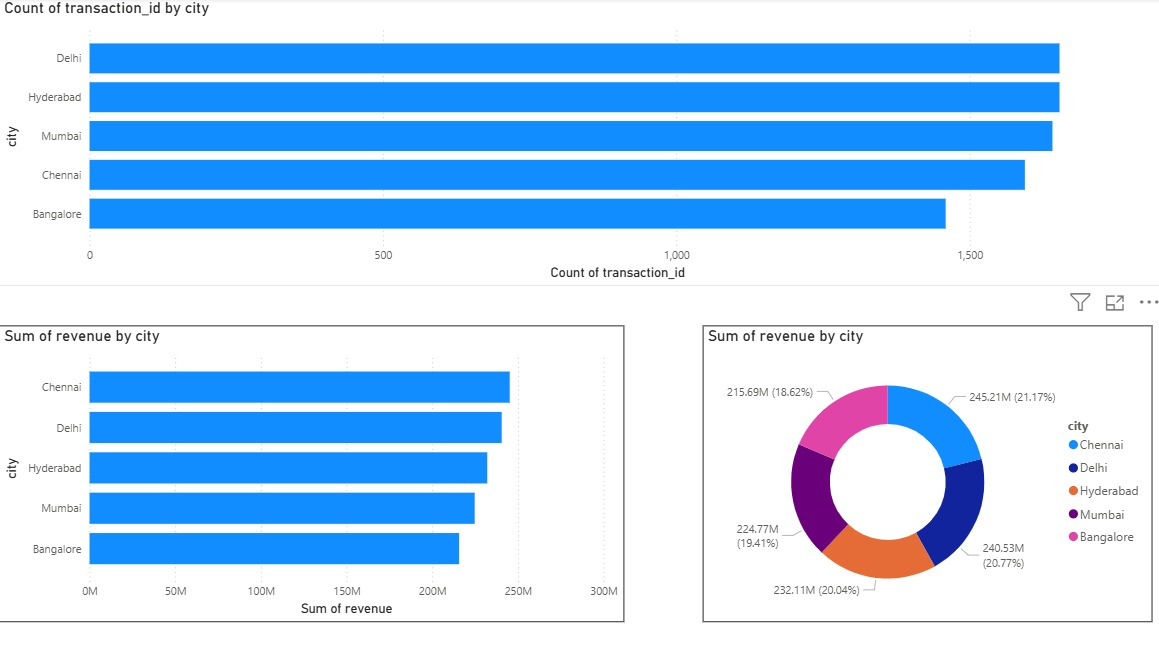

Layout of this report page (visuals, bound fields, positions):
{"tool":"powerbi","page":{"name":"Regional Insights","canvas":[1280,720],"ordinal":2},"visuals":[{"type":"clusteredBarChart","fields":{"Category":["cleaned_retail_data_v2.city"],"Y":["Sum(cleaned_retail_data_v2.revenue)"]},"box":[0,359.5,686.1,325.2],"z":0},{"type":"clusteredBarChart","fields":{"Category":["cleaned_retail_data_v2.city"],"Y":["Count(cleaned_retail_data_v2.transaction_id)"]},"box":[0,0,1280.3,315.6],"z":1000},{"type":"donutChart","fields":{"Category":["cleaned_retail_data_v2.city"],"Y":["Sum(cleaned_retail_data_v2.revenue)"]},"box":[772.6,359.5,494,325.2],"z":2000}]}

Visuals, with their boxes in screenshot pixels (x1, y1, x2, y2), scaled from the page's 1280x720 canvas onto the 1159x648 screenshot:
clusteredBarChart - cleaned_retail_data_v2.city x Sum(cleaned_retail_data_v2.revenue): Rect(0, 324, 621, 616)
clusteredBarChart - cleaned_retail_data_v2.city x Count(cleaned_retail_data_v2.transaction_id): Rect(0, 0, 1158, 284)
donutChart - cleaned_retail_data_v2.city x Sum(cleaned_retail_data_v2.revenue): Rect(700, 324, 1147, 616)
